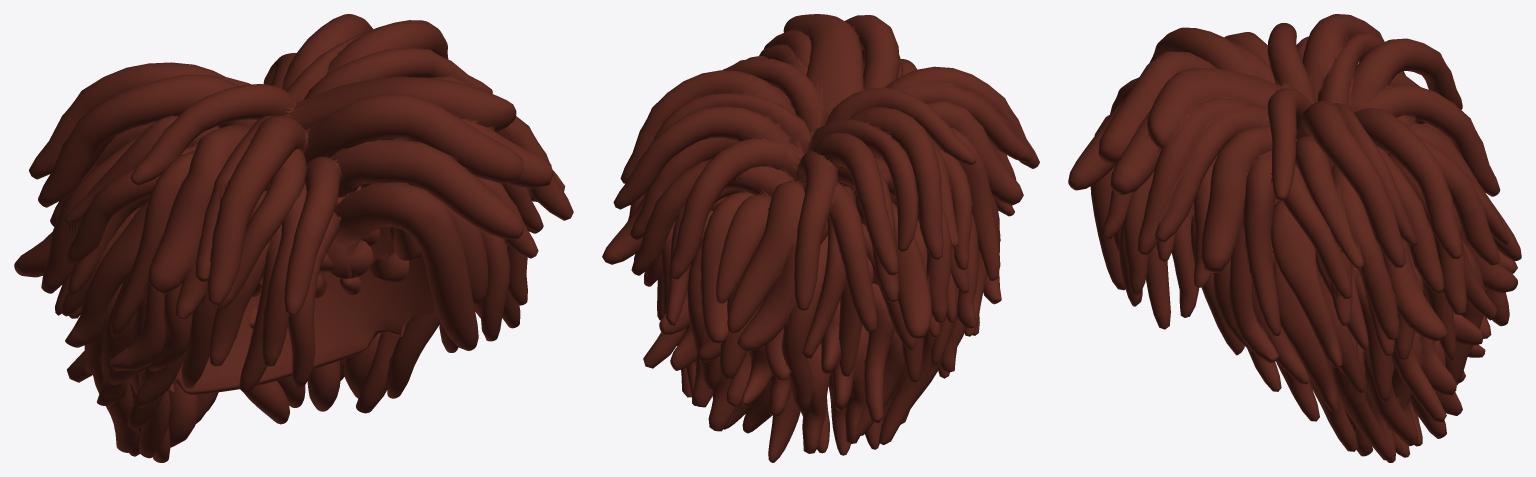
Rendered from Hair_Base_Shortdreads_012.fbx.
3 renders of one model, left to right at view 1: azimuth 30°, elevation 25°; view 2: azimuth 150°, elevation 25°; view 3: azimuth 270°, elevation 25°, orthographic. The views are drawn at different scales.
Parts seen in each view (by area): view 1: BraidsBase; view 2: BraidsBase; view 3: BraidsBase.
Boxes of the visible parts, box(x1,y1,x2,y2) form: BraidsBase: box(14, 14, 573, 462); BraidsBase: box(602, 14, 1039, 462); BraidsBase: box(1068, 14, 1521, 462).
Bounding box in the file's own units: 216 × 210 × 230.
